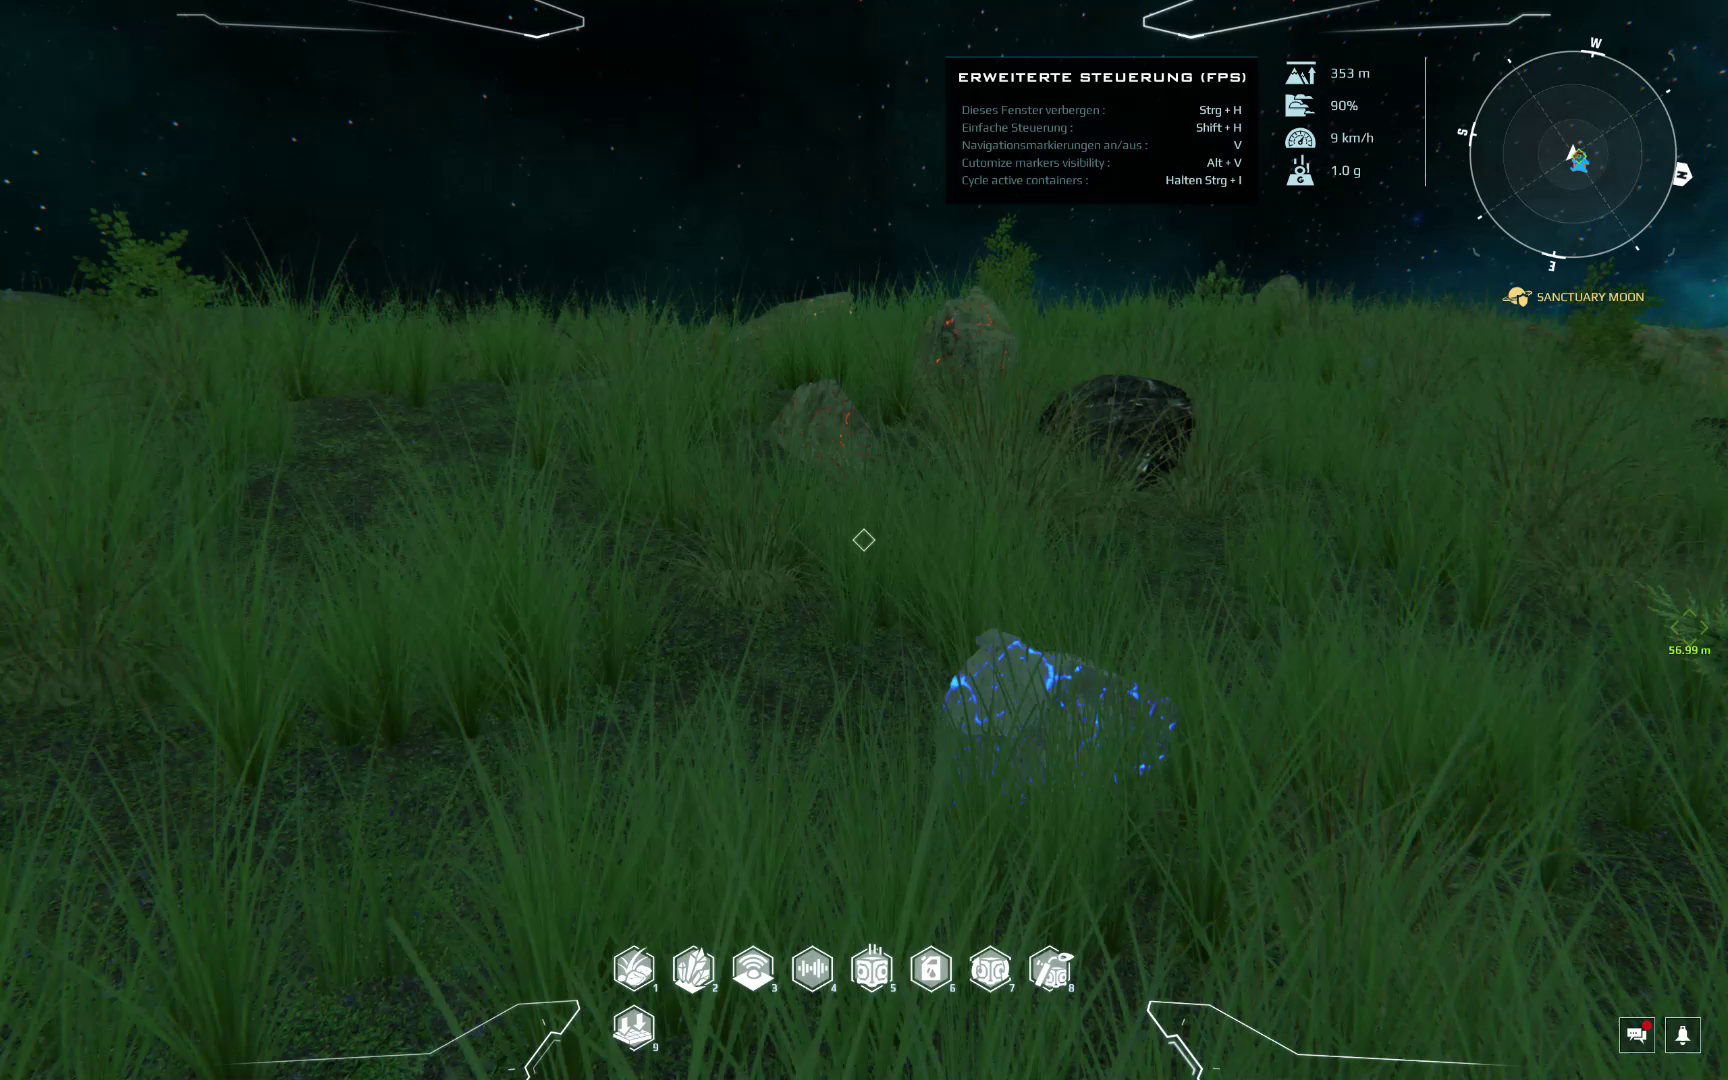Ore: (929, 623, 1182, 793), (1030, 368, 1194, 494), (909, 285, 1019, 433), (765, 379, 885, 475), (743, 289, 862, 341)
